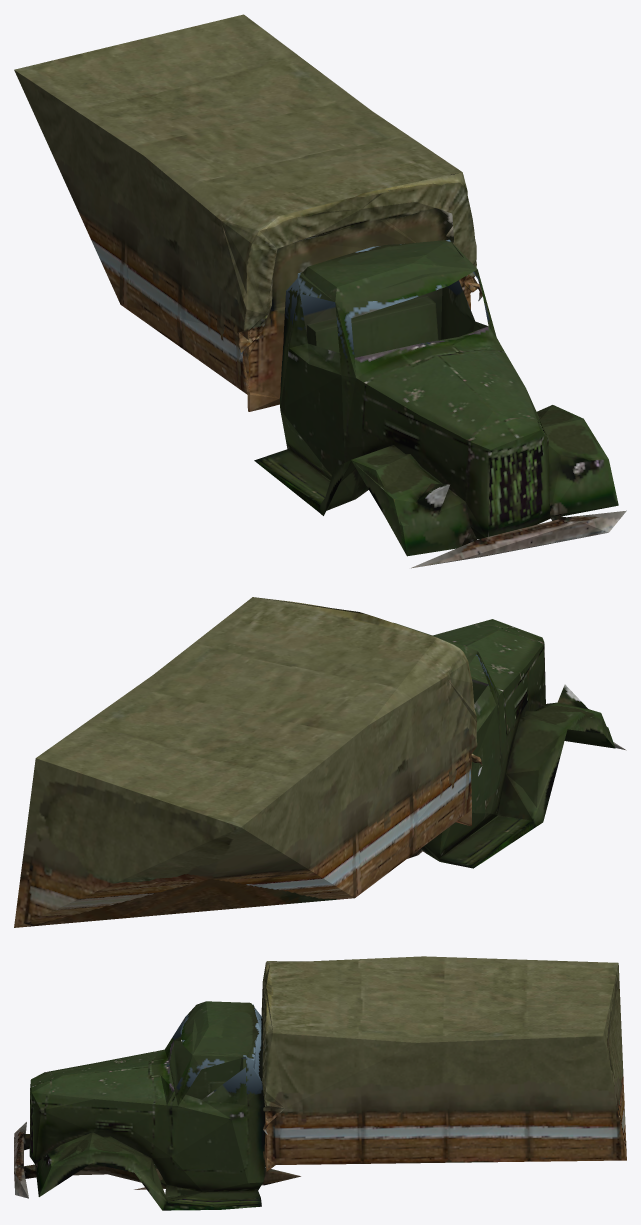
File: truck.obj
3 renders of one model, top to bottom at view 1: azimuth 30°, elevation 25°; view 2: azimuth 150°, elevation 25°; view 3: azimuth 270°, elevation 25°, orthographic. The views are drawn at different scales.
Size of the model in its own units: 0.3399 by 0.3275 by 0.9912.
Materials: 1 (1 with a texture image).
